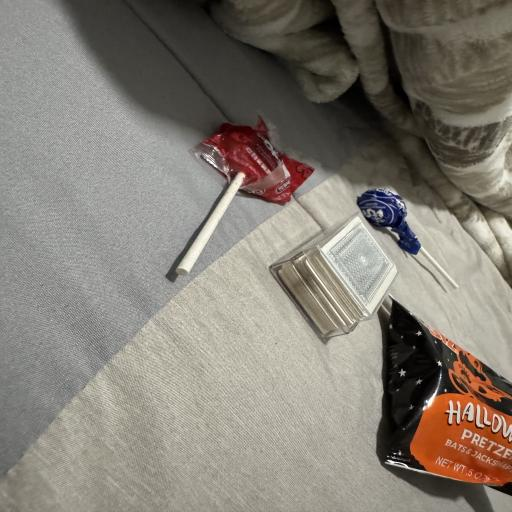chocolate: (386, 301, 511, 492), (176, 117, 314, 275), (357, 188, 458, 288)
